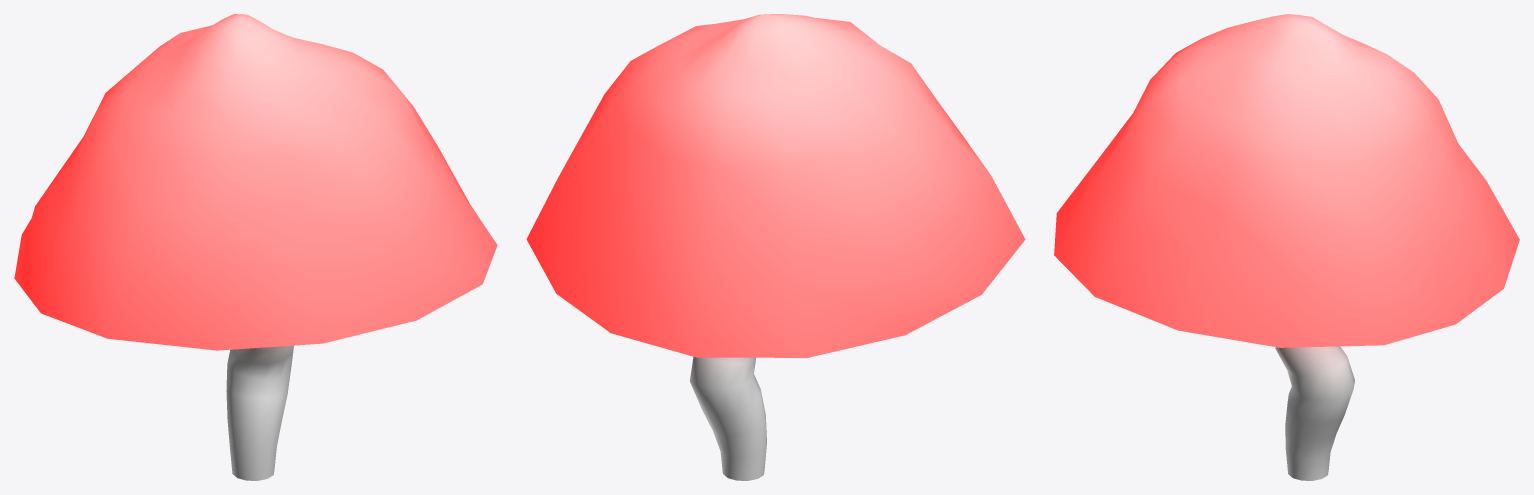
File: mushroom_7.glb
The picture shows the model from 3 angles, left to right: view 1: azimuth 30°, elevation 25°; view 2: azimuth 150°, elevation 25°; view 3: azimuth 270°, elevation 25°; orthographic projection. The views are drawn at different scales.
Parts seen in each view (by area): view 1: geo1; view 2: geo1; view 3: geo1.
Part boxes in pixels (bbox=[...]): geo1: bbox=[14, 14, 497, 480]; geo1: bbox=[526, 14, 1025, 480]; geo1: bbox=[1054, 14, 1519, 480].
Size of the model in its own units: 0.2311 by 0.2373 by 0.2251.
